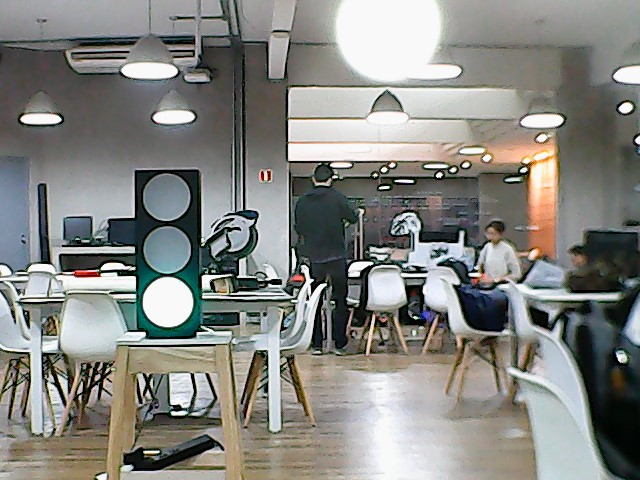verde: (132, 163, 205, 341)
